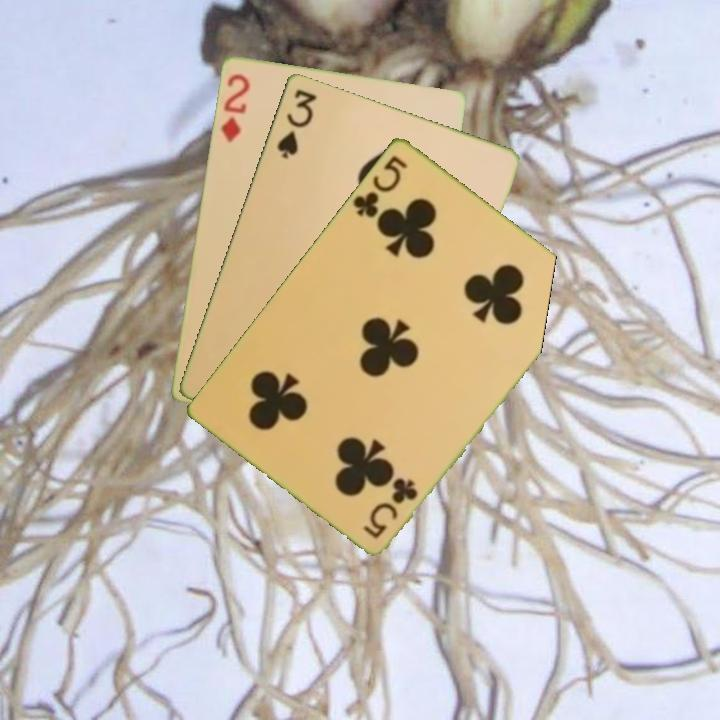2d: (217, 69, 253, 145)
3s: (273, 85, 320, 161)
5c: (349, 151, 411, 221), (359, 474, 421, 541)
